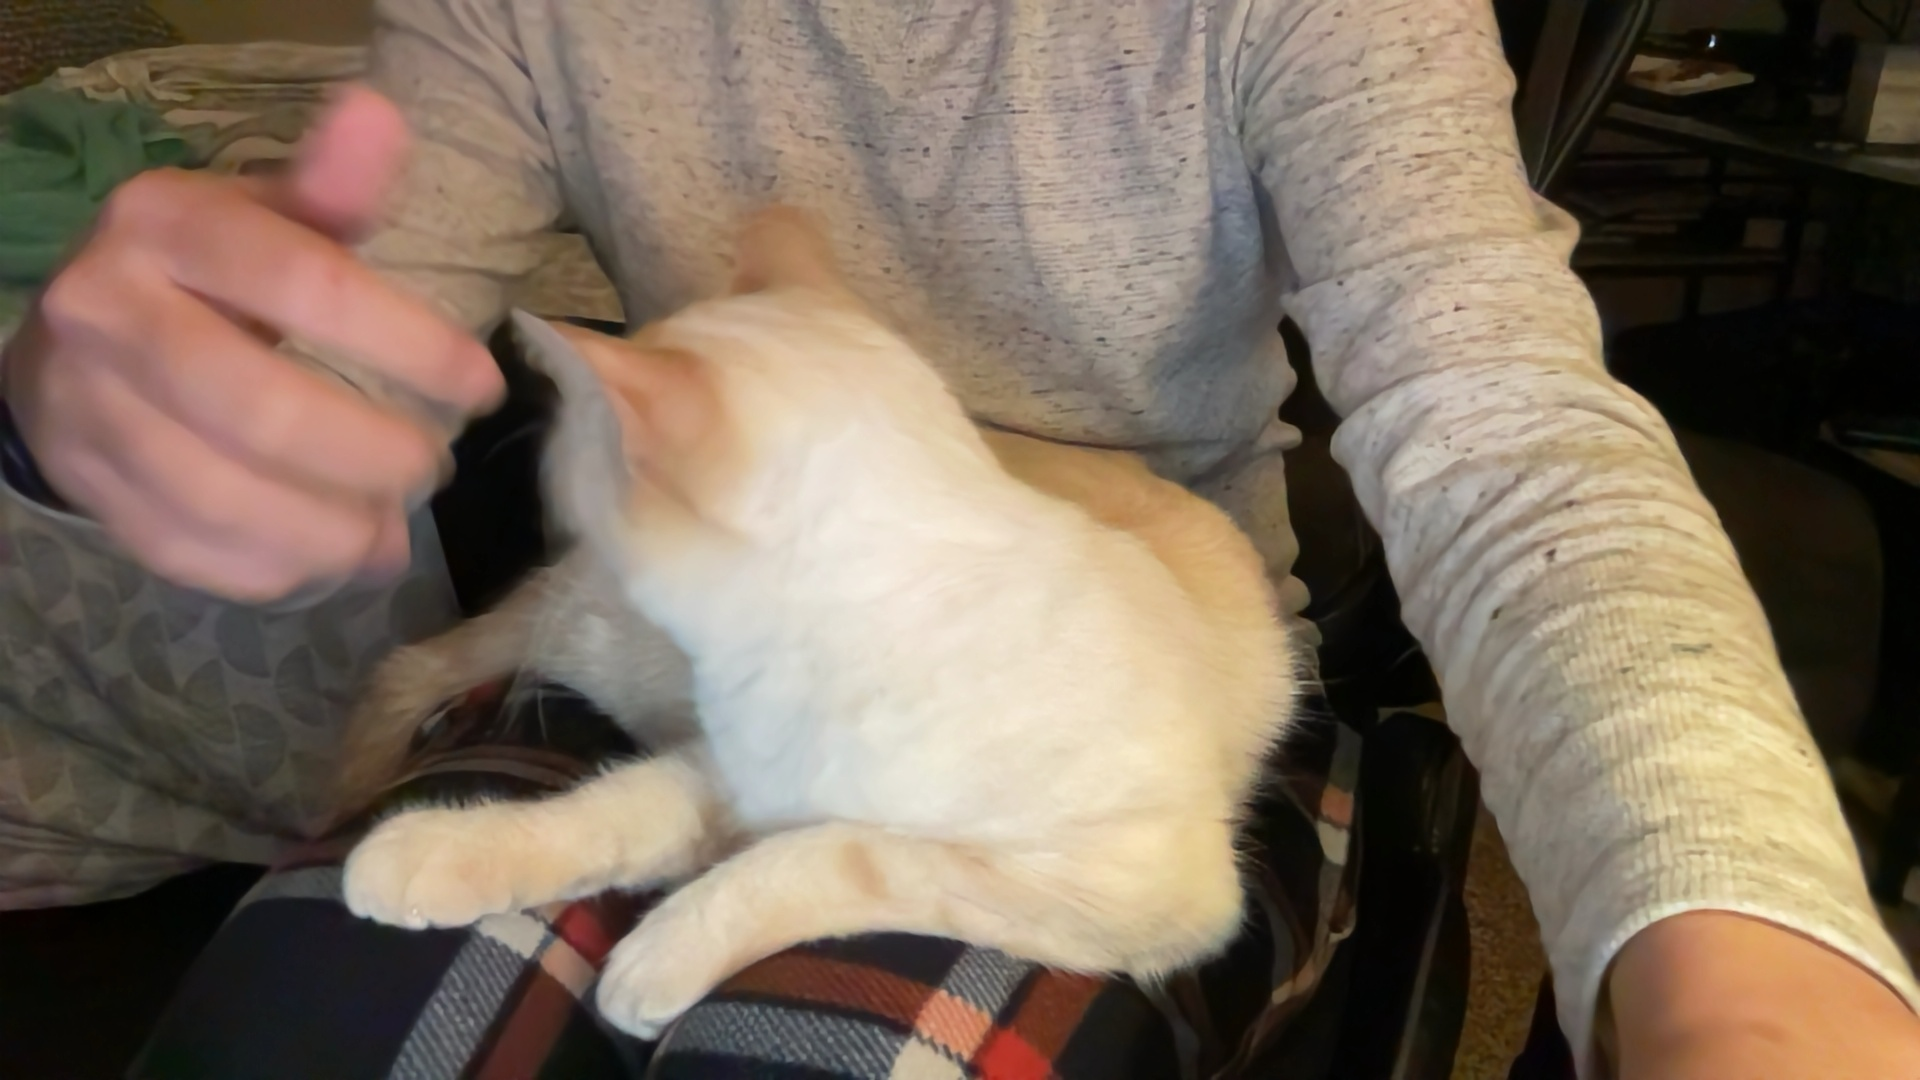cat: (316, 214, 1300, 1025)
